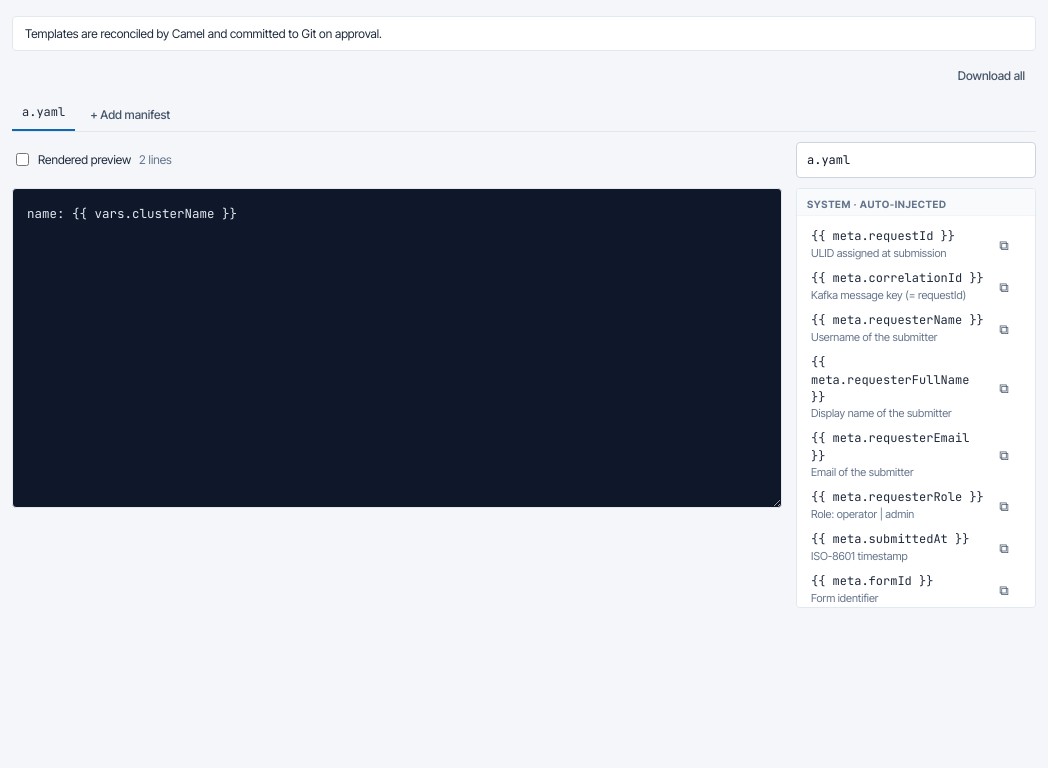
Test: TemplateEditor › Rendered preview toggle interpolates {{ vars.x }} tokens for active file
The image size is (1048, 768).
Click the checkbox labelled "Rendered preview" at (22, 160), box [16,153,29,166]
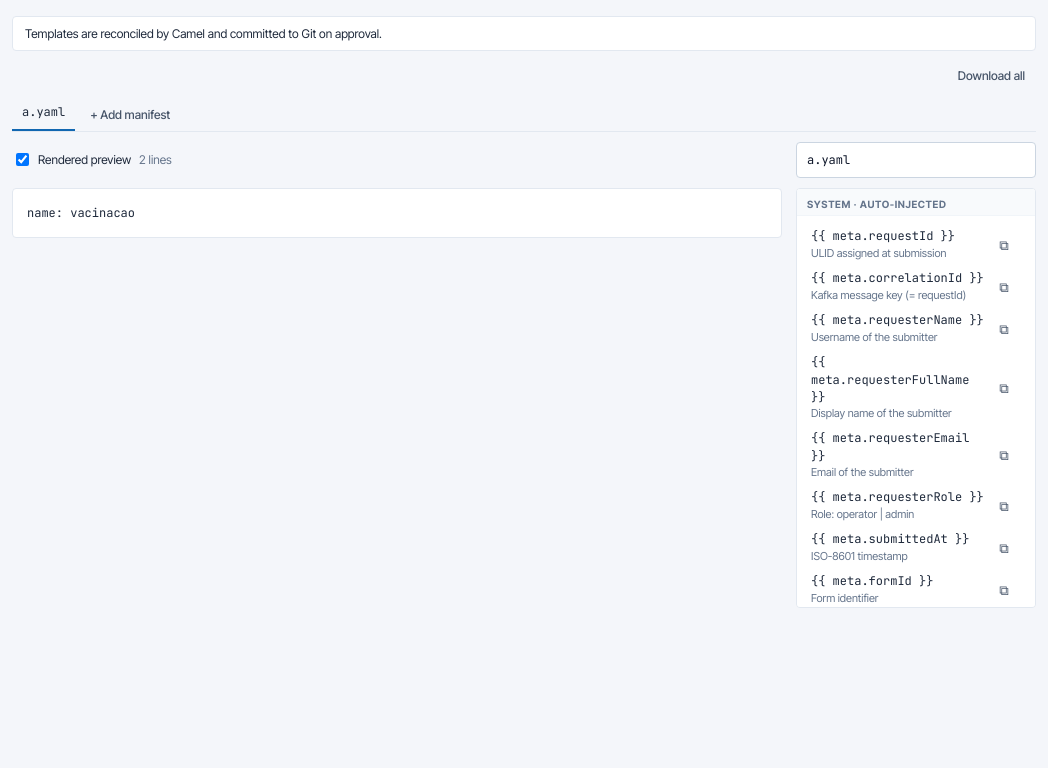
expect the element with test id "template-preview" does not show "{{ vars.clusterName }}": met
expect the text with test id "template-preview" shows "vacinacao": met, box [27,205,135,221]
